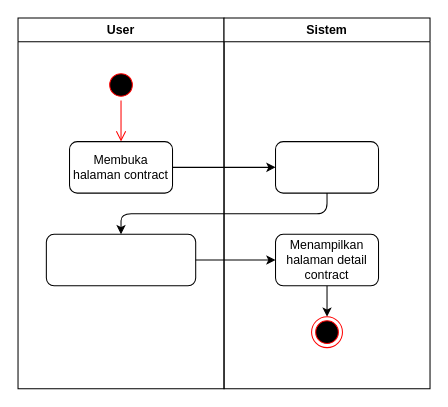
The diagram is 448 pixels wide and 407 high, and some of its shapes have lost their labels. The box of each missing label's shape, as (x1, y1, x2, y2) in pixels:
Menampilkan halaman contract: (274, 141, 379, 193)
Tekan simbol pengaturan sesuai contract type "Lumpsum": (45, 233, 196, 286)
